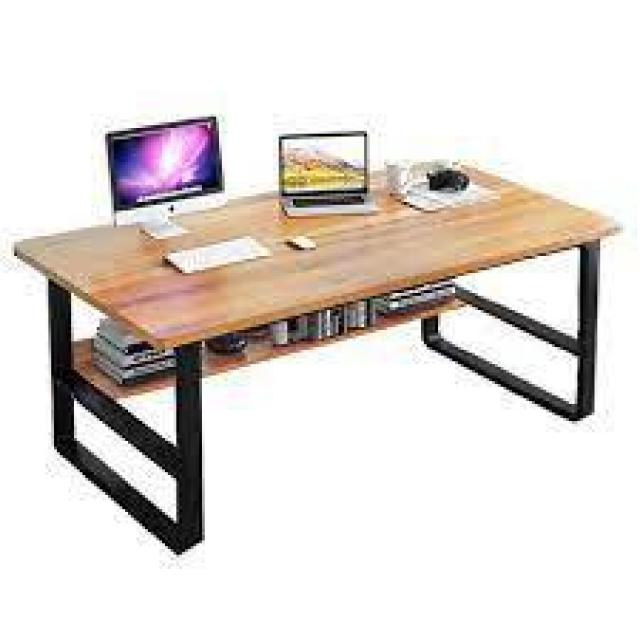desk: (0, 89, 634, 544)
